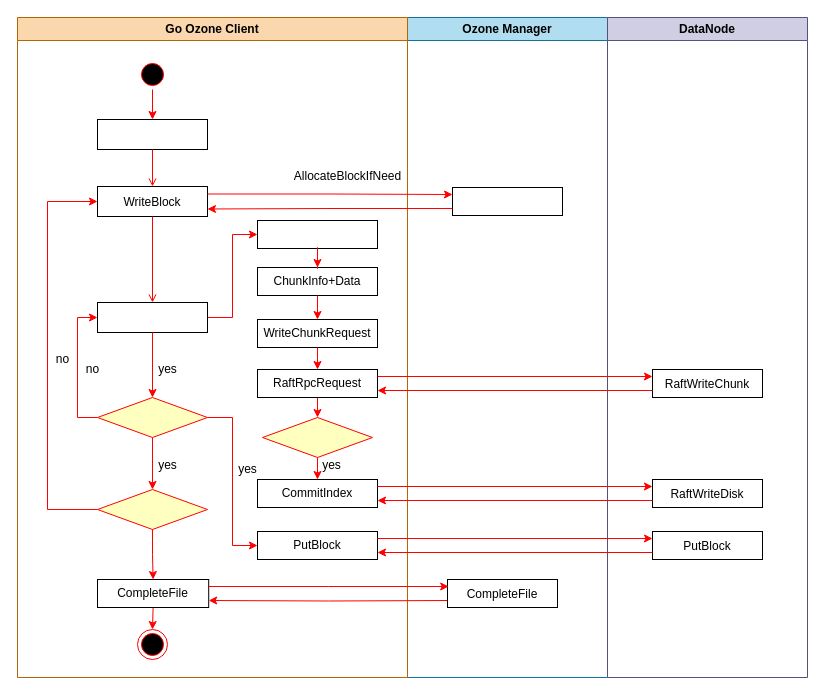
Image size: 825x695. Some labels were removed from this diagram. The centre of each missing label's shape, as x and y in pixels:
"AllocateBlock" belongs at (x=507, y=201).
"BatchSize" belongs at (x=317, y=437).
"BlockFull" belongs at (x=152, y=417).
"CheckSum" belongs at (x=317, y=234).
"ReadFile" belongs at (x=152, y=134).
"WriteAll" belongs at (x=152, y=509).
"WriteChunk" belongs at (x=152, y=317).
